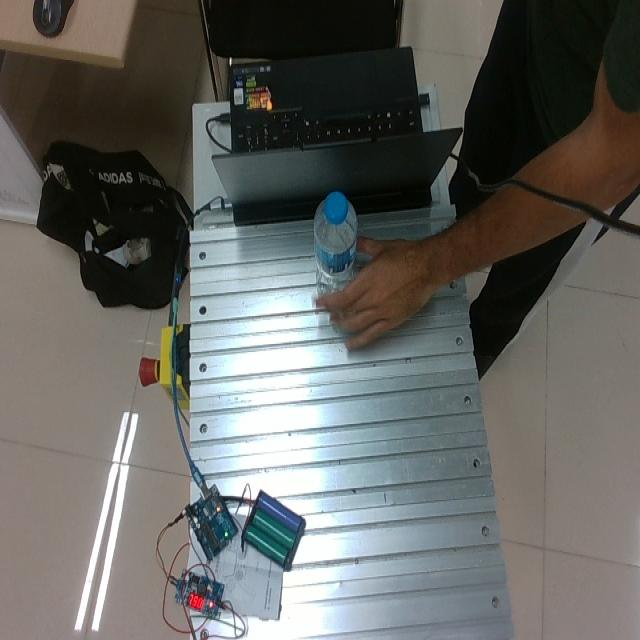lavie: (312, 192, 358, 299)
